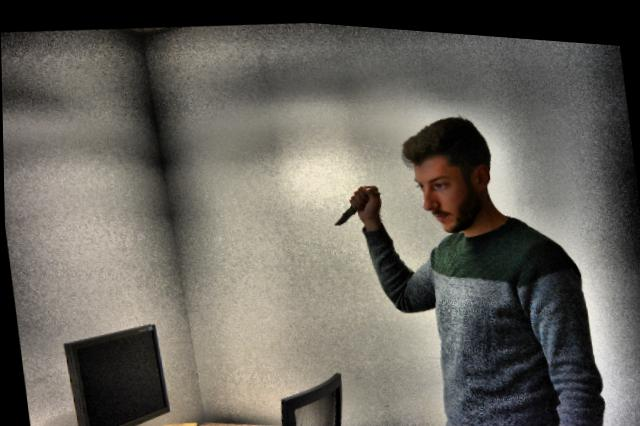knife: (325, 180, 385, 226)
